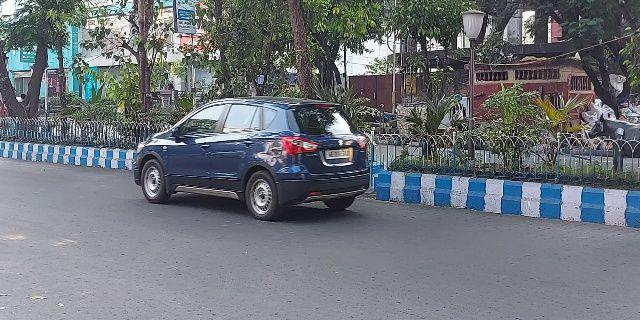Car: (130, 96, 376, 218)
